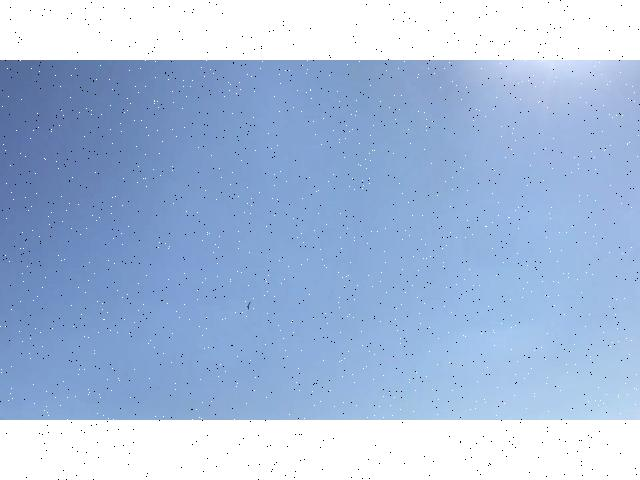Anti-Drone: (242, 293, 260, 314)
